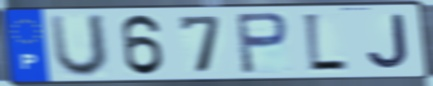6: (118, 13, 166, 77)
7: (178, 14, 226, 75)
J: (364, 11, 412, 71)
L: (300, 11, 351, 75)
P: (233, 10, 292, 76)
U: (47, 13, 111, 80)
